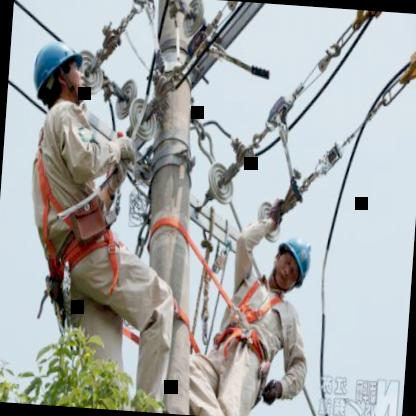helmet: (19, 28, 108, 110), (266, 232, 309, 304)
